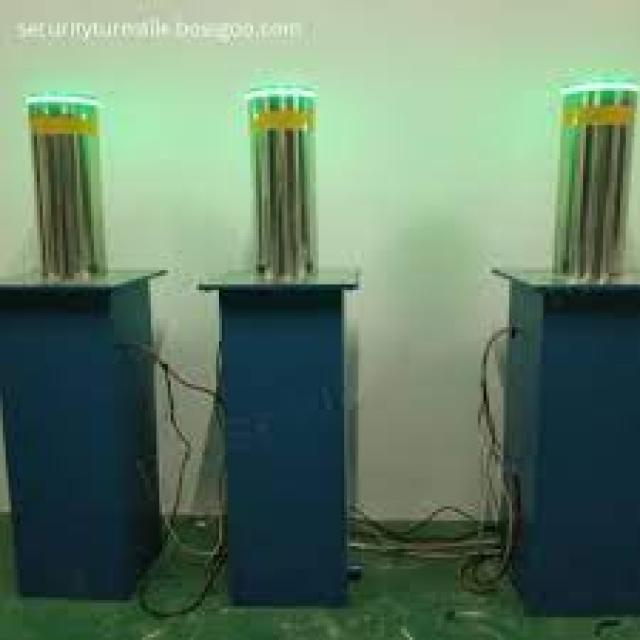bollard: (223, 69, 334, 282), (12, 79, 119, 287), (546, 63, 640, 282)
